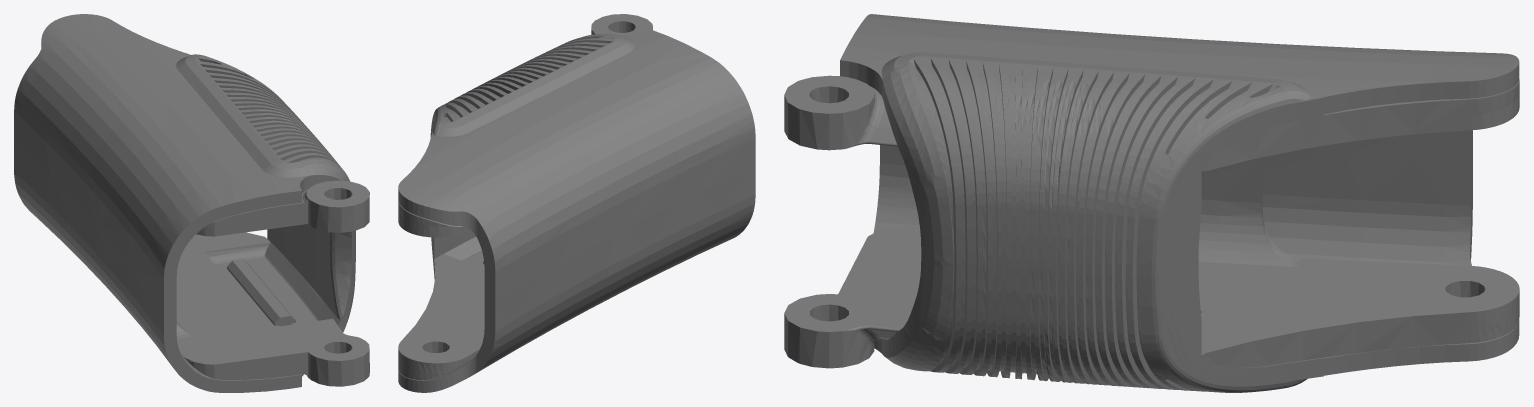
The model's file is rh_middle_middle_vis.obj.
3 renders of one model, left to right at view 1: azimuth 30°, elevation 25°; view 2: azimuth 150°, elevation 25°; view 3: azimuth 270°, elevation 25°, orthographic. The views are drawn at different scales.
Parts seen in each view (by area): view 1: rh_middle_middle; view 2: rh_middle_middle; view 3: rh_middle_middle.
Boxes of the visible parts, x1,y1,x2,y2 form: rh_middle_middle: [14, 14, 369, 392]; rh_middle_middle: [398, 14, 755, 392]; rh_middle_middle: [784, 14, 1519, 392].
Size of the model in its own units: 0.0193 by 0.0164 by 0.0367.
Materials: 1 (1 with a texture image).
